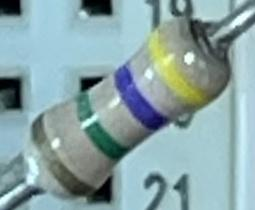Blue: (109, 64, 172, 135)
Green: (69, 91, 127, 169)
Side-Silver: (23, 115, 96, 205)
Yellow: (144, 32, 205, 116)
